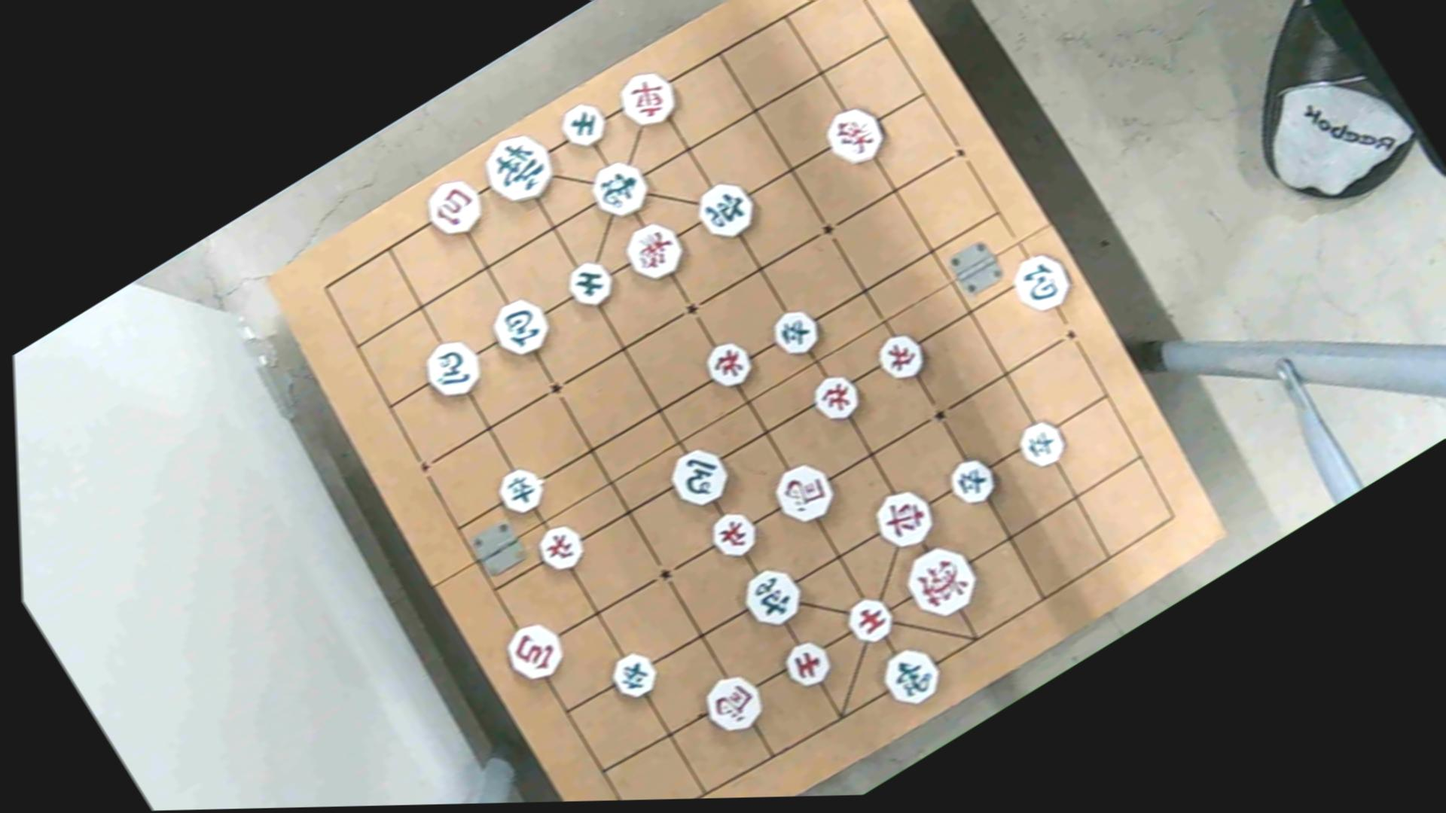cha_green: (685, 173, 763, 245), (737, 560, 811, 632)
cha_red: (868, 484, 942, 554), (612, 65, 682, 132)
jol_green: (940, 450, 1004, 512), (1011, 414, 1073, 475), (490, 461, 551, 520), (764, 303, 825, 361), (604, 647, 666, 704)
jol_red: (804, 368, 868, 428), (868, 328, 932, 387), (698, 334, 762, 393), (700, 506, 763, 564), (530, 520, 592, 578)
ma_green: (660, 439, 740, 513), (413, 333, 492, 406)
ma_red: (765, 458, 841, 530), (696, 668, 772, 739)
po_green: (482, 292, 560, 364), (1005, 248, 1078, 318)
po_red: (496, 616, 574, 689), (419, 175, 488, 239)
sa_green: (558, 254, 622, 313), (551, 96, 612, 153)
sa_red: (839, 592, 902, 650), (778, 635, 840, 693)
sang_green: (877, 641, 949, 711), (584, 154, 653, 221)
sang_red: (615, 213, 694, 288), (813, 96, 892, 170)
wang_green: (473, 125, 566, 211)
wang_red: (897, 538, 989, 625)
